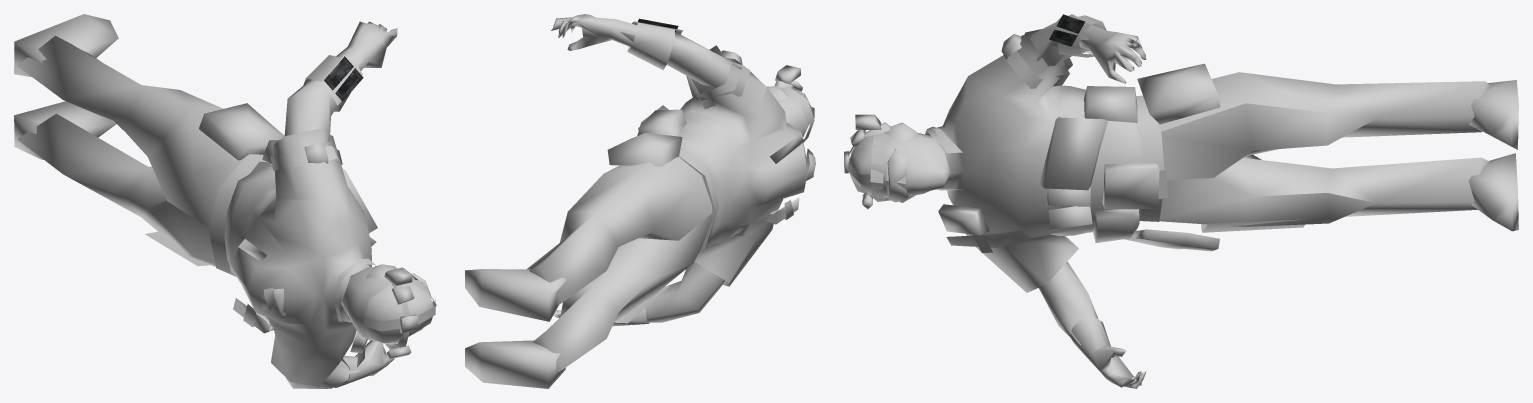
The model's file is c_mul_mp_pmc_smg_fb_LOD3.obj.
3 renders of one model, left to right at view 1: azimuth 30°, elevation 25°; view 2: azimuth 150°, elevation 25°; view 3: azimuth 270°, elevation 25°, orthographic. The views are drawn at different scales.
Parts seen in each view (by area): view 1: mtl_c_mul_mp_pmc_lbr_2_1, mtl_c_mul_mp_pmc_upperbody2, mtl_c_mul_mp_pmc_smg_gear, mtl_c_mul_mp_pmc_gear_main_1, mtl_c_mul_mp_pmc_balaclava, mtl_c_gen_arm_clean_brown, mtl_c_mul_mp_pmc_gloves3, mtl_c_gen_mp_datapad, mtl_c_mul_mp_pmc_helmet1; view 2: mtl_c_mul_mp_pmc_lbr_2_1, mtl_c_mul_mp_pmc_upperbody2, mtl_c_mul_mp_pmc_gear_main_1, mtl_c_mul_mp_pmc_smg_gear, mtl_c_gen_arm_clean_brown, mtl_c_mul_mp_pmc_gloves3, mtl_c_mul_mp_pmc_balaclava; view 3: mtl_c_mul_mp_pmc_lbr_2_1, mtl_c_mul_mp_pmc_upperbody2, mtl_c_mul_mp_pmc_smg_gear, mtl_c_mul_mp_pmc_gear_main_1, mtl_c_mul_mp_pmc_balaclava, mtl_c_mul_mp_pmc_gloves3, mtl_c_gen_arm_clean_brown, mtl_c_mul_mp_pmc_glasses, mtl_c_gen_mp_datapad.
Part boxes in pixels (x1,y1,x2,y2): mtl_c_mul_mp_pmc_lbr_2_1: (17,35,246,266); mtl_c_mul_mp_pmc_upperbody2: (224,162,371,387); mtl_c_mul_mp_pmc_smg_gear: (199,55,377,276); mtl_c_mul_mp_pmc_gear_main_1: (14,14,376,367); mtl_c_mul_mp_pmc_balaclava: (342,264,436,359); mtl_c_gen_arm_clean_brown: (284,57,363,388); mtl_c_mul_mp_pmc_gloves3: (334,21,397,387); mtl_c_gen_mp_datapad: (324,56,363,101); mtl_c_mul_mp_pmc_helmet1: (392,286,418,333); mtl_c_mul_mp_pmc_lbr_2_1: (527,156,712,373); mtl_c_mul_mp_pmc_upperbody2: (677,76,807,286); mtl_c_mul_mp_pmc_gear_main_1: (465,135,815,388); mtl_c_mul_mp_pmc_smg_gear: (607,21,767,252); mtl_c_gen_arm_clean_brown: (620,32,731,322); mtl_c_mul_mp_pmc_gloves3: (551,14,649,326); mtl_c_mul_mp_pmc_balaclava: (767,65,814,142); mtl_c_mul_mp_pmc_lbr_2_1: (1157,72,1490,226); mtl_c_mul_mp_pmc_upperbody2: (925,57,1141,292); mtl_c_mul_mp_pmc_smg_gear: (968,15,1220,251); mtl_c_mul_mp_pmc_gear_main_1: (927,80,1518,252); mtl_c_mul_mp_pmc_balaclava: (848,114,950,209); mtl_c_mul_mp_pmc_gloves3: (1070,25,1146,388); mtl_c_gen_arm_clean_brown: (1030,14,1098,345); mtl_c_mul_mp_pmc_glasses: (887,150,908,202); mtl_c_gen_mp_datapad: (1049,14,1084,46).
Bounding box in the file's own units: 67.26 × 105 × 184.
